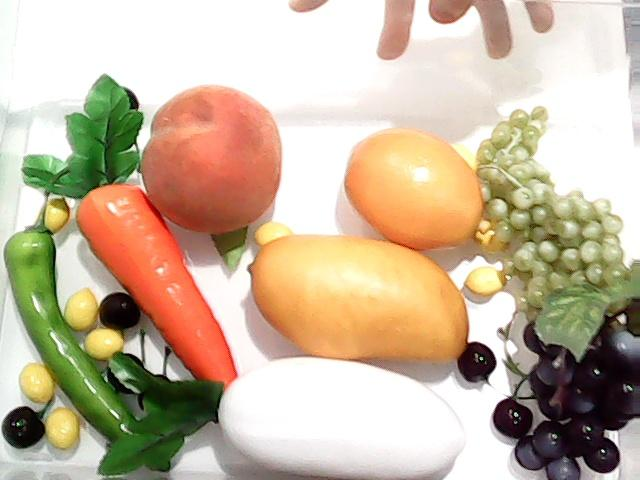carrot: (22, 73, 238, 391)
grape: (478, 100, 630, 320), (508, 280, 640, 480)
lemon: (333, 118, 505, 258)
mango: (246, 226, 474, 370)
peach: (144, 82, 284, 234)
pepper: (1, 218, 176, 476)
radish: (97, 348, 470, 480)
